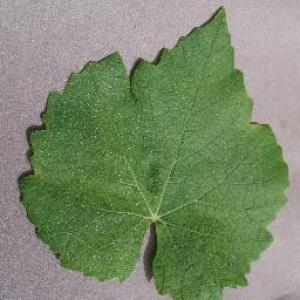Folha: (16, 5, 290, 299)
